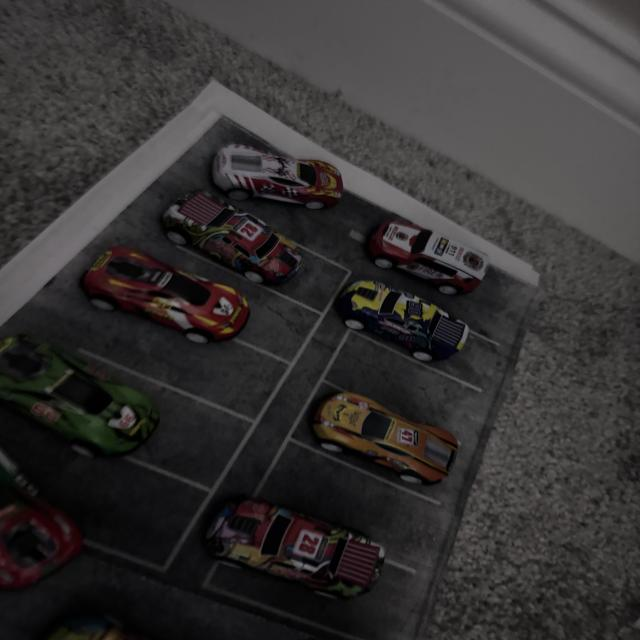car: (98, 140, 330, 296), (45, 235, 239, 363), (169, 484, 393, 593), (0, 360, 179, 489), (290, 364, 458, 472), (175, 122, 364, 213), (324, 261, 479, 350), (388, 209, 497, 283)
